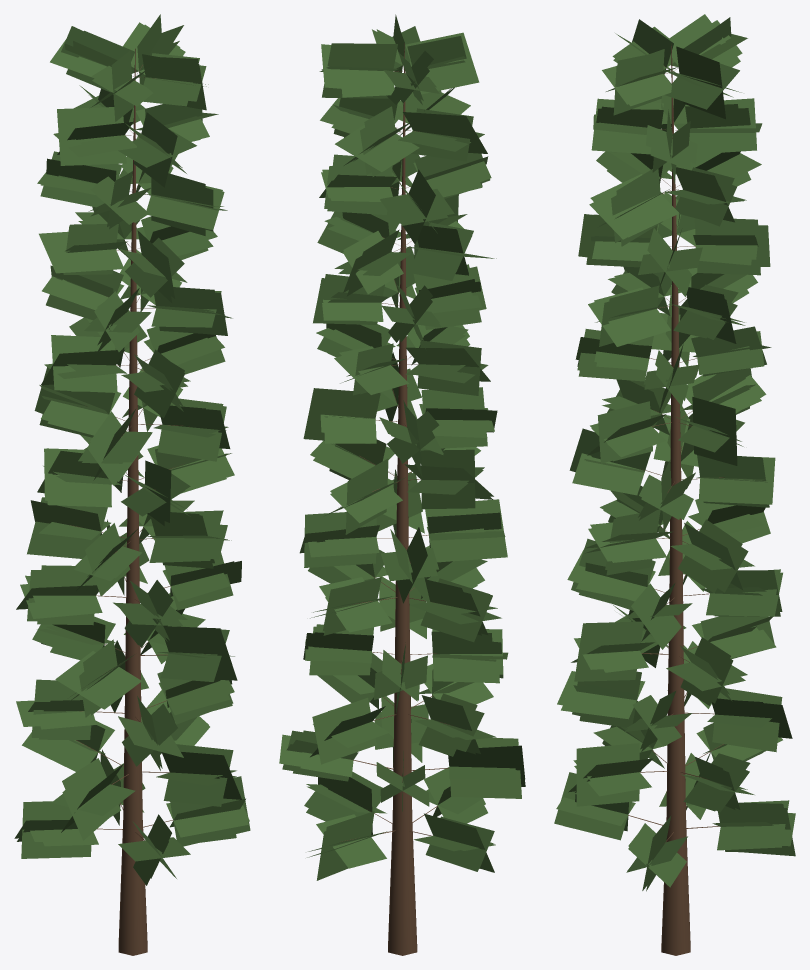
File: seedthree-fir-3.gltf
3 views of the same model, side by side, from view 1: azimuth 30°, elevation 25°; view 2: azimuth 150°, elevation 25°; view 3: azimuth 270°, elevation 25° (orthographic).
Visible parts, largest first — view 1: seedthree-fir-3_leaves, seedthree-fir-3_branches; view 2: seedthree-fir-3_leaves, seedthree-fir-3_branches; view 3: seedthree-fir-3_leaves, seedthree-fir-3_branches.
Boxes of the visible parts, left/top/right/bottom form: seedthree-fir-3_leaves: left=14, top=14, right=250, bottom=885; seedthree-fir-3_branches: left=70, top=48, right=205, bottom=955; seedthree-fir-3_leaves: left=279, top=14, right=525, bottom=880; seedthree-fir-3_branches: left=341, top=43, right=452, bottom=955; seedthree-fir-3_leaves: left=554, top=14, right=795, bottom=891; seedthree-fir-3_branches: left=628, top=44, right=724, bottom=955.
Size of the model in its own units: 2.11 by 9 by 2.15.
